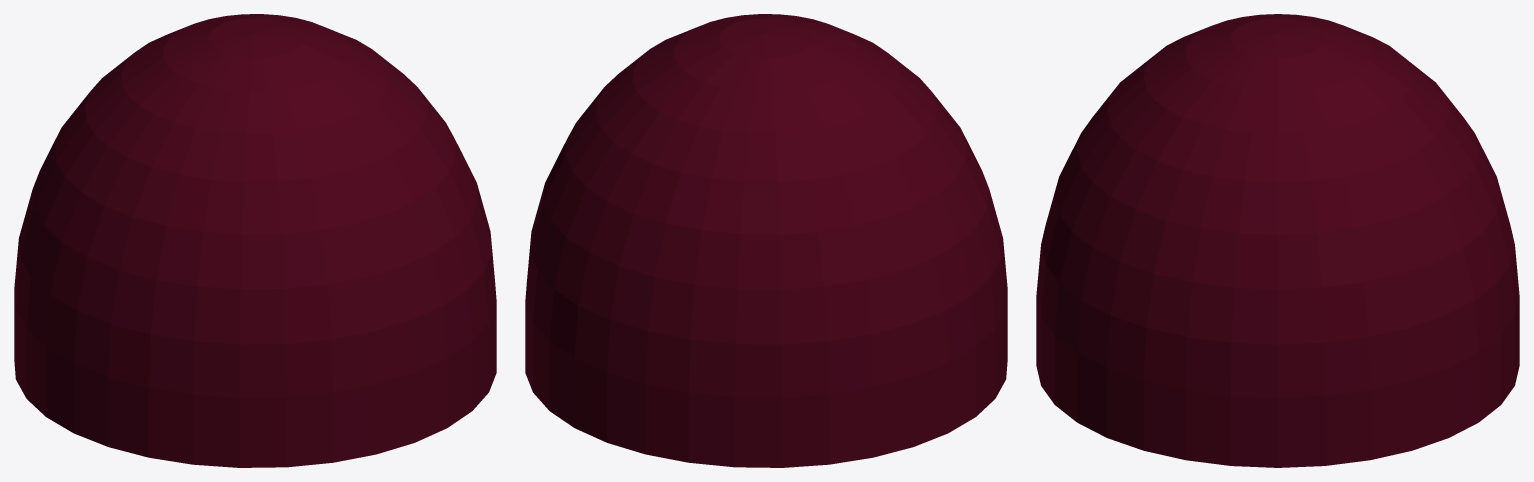
The model's file is chapa.fbx.
The picture shows the model from 3 angles, left to right: view 1: azimuth 30°, elevation 25°; view 2: azimuth 150°, elevation 25°; view 3: azimuth 270°, elevation 25°; orthographic projection.
Visible parts, largest first — view 1: Chapa; view 2: Chapa; view 3: Chapa.
Part boxes in pixels (x1,y1,x2,y2): Chapa: (14,14,496,467); Chapa: (525,14,1007,467); Chapa: (1036,14,1519,467).
Bounding box in the file's own units: 4 × 3.04 × 4.
